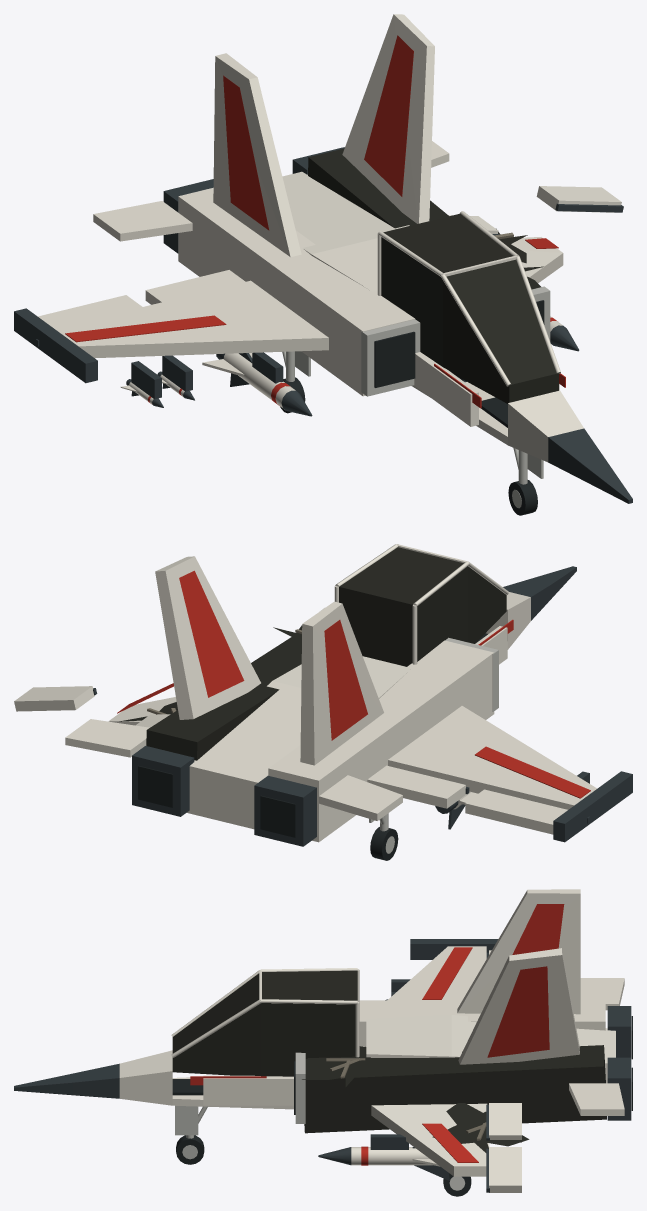
3 renders of one model, top to bottom at view 1: azimuth 30°, elevation 25°; view 2: azimuth 150°, elevation 25°; view 3: azimuth 270°, elevation 25°, orthographic. The views are drawn at different scales.
Visible parts, largest first — view 1: jet-b-damaged-fleet-armor, jet-b-damaged-fleet-damage-charred, jet-b-damaged-fleet-red, jet-b-damaged-fleet-machine, elevator-left-fleet-armor, jet-b-damaged-fleet-rubber, jet-b-damaged-fleet-edge, store-left-large-painted, aileron-right-painted, flap-left-painted, aileron-left-painted, gear-wheel-nose-0-0-painted; view 2: jet-b-damaged-fleet-armor, jet-b-damaged-fleet-damage-charred, jet-b-damaged-fleet-machine, jet-b-damaged-fleet-red, aileron-left-painted, jet-b-damaged-fleet-rubber, flap-left-painted, elevator-left-fleet-armor, elevator-right-fleet-armor, aileron-right-painted, gear-wheel-left-0-0-painted, jet-b-damaged-fleet-edge (+1 smaller); view 3: jet-b-damaged-fleet-armor, jet-b-damaged-fleet-damage-charred, jet-b-damaged-fleet-red, jet-b-damaged-fleet-machine, store-right-large-painted, aileron-right-painted, elevator-right-fleet-armor, flap-right-painted, elevator-left-fleet-armor, landing-gear-nose-painted, jet-b-damaged-fleet-edge, jet-b-damaged-fleet-rubber (+3 smaller).
Boxes of the visible parts, x1,y1,x2,y2 form: jet-b-damaged-fleet-armor: [54, 14, 583, 462]; jet-b-damaged-fleet-damage-charred: [308, 148, 558, 403]; jet-b-damaged-fleet-red: [65, 35, 565, 408]; jet-b-damaged-fleet-machine: [14, 147, 632, 503]; elevator-left-fleet-armor: [93, 201, 192, 241]; jet-b-damaged-fleet-rubber: [374, 300, 544, 427]; jet-b-damaged-fleet-edge: [361, 286, 550, 396]; store-left-large-painted: [202, 353, 312, 416]; aileron-right-painted: [536, 186, 623, 212]; flap-left-painted: [145, 270, 245, 304]; aileron-left-painted: [36, 295, 142, 346]; gear-wheel-nose-0-0-painted: [508, 480, 537, 515]; jet-b-damaged-fleet-armor: [108, 544, 597, 842]; jet-b-damaged-fleet-damage-charred: [119, 547, 506, 760]; jet-b-damaged-fleet-machine: [132, 566, 632, 846]; jet-b-damaged-fleet-red: [117, 570, 590, 798]; aileron-left-painted: [465, 789, 589, 834]; jet-b-damaged-fleet-rubber: [138, 633, 487, 837]; flap-left-painted: [367, 765, 469, 808]; elevator-left-fleet-armor: [319, 775, 402, 820]; elevator-right-fleet-armor: [65, 719, 149, 757]; aileron-right-painted: [14, 686, 97, 711]; gear-wheel-left-0-0-painted: [370, 827, 398, 860]; jet-b-damaged-fleet-edge: [321, 608, 498, 711]; jet-b-damaged-fleet-armor: [119, 889, 615, 1176]; jet-b-damaged-fleet-damage-charred: [172, 970, 606, 1152]; jet-b-damaged-fleet-red: [190, 904, 564, 1162]; jet-b-damaged-fleet-machine: [14, 939, 631, 1149]; store-right-large-painted: [318, 1146, 449, 1180]; aileron-right-painted: [486, 1147, 521, 1192]; elevator-right-fleet-armor: [569, 1083, 624, 1115]; flap-right-painted: [486, 1103, 521, 1142]; elevator-left-fleet-armor: [580, 978, 624, 1010]; landing-gear-nose-painted: [175, 1106, 207, 1138]; jet-b-damaged-fleet-edge: [295, 1052, 305, 1123]; jet-b-damaged-fleet-rubber: [172, 1016, 632, 1114].
Bounding box in the file's own units: 48.99 × 24.7 × 54.74.
